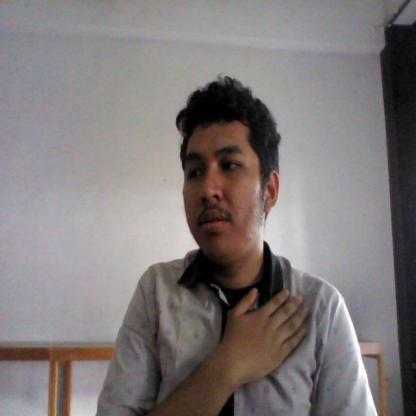Saya: (220, 281, 312, 398)
